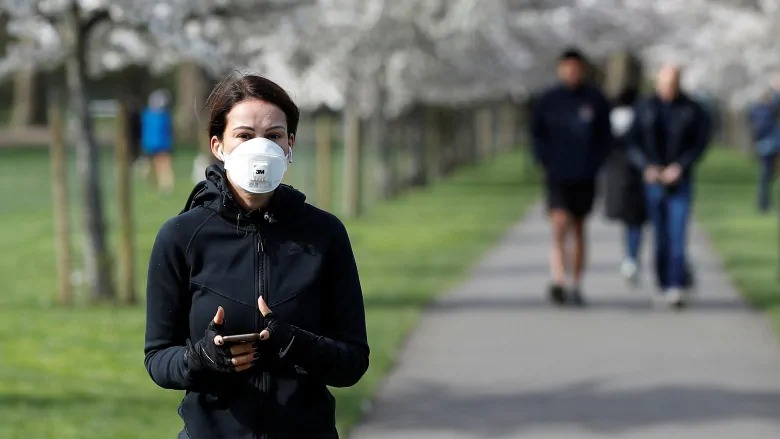n95: (219, 136, 295, 195)
